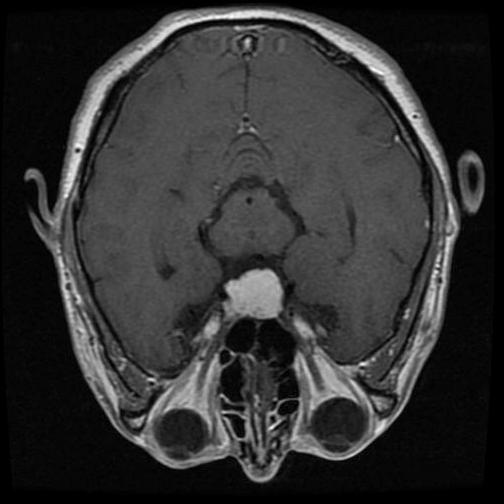Tumour-Meningioma: (185, 245, 318, 338)
